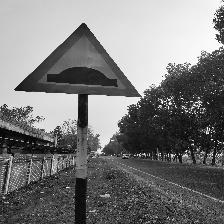Speed-breaker: (18, 28, 136, 94)
